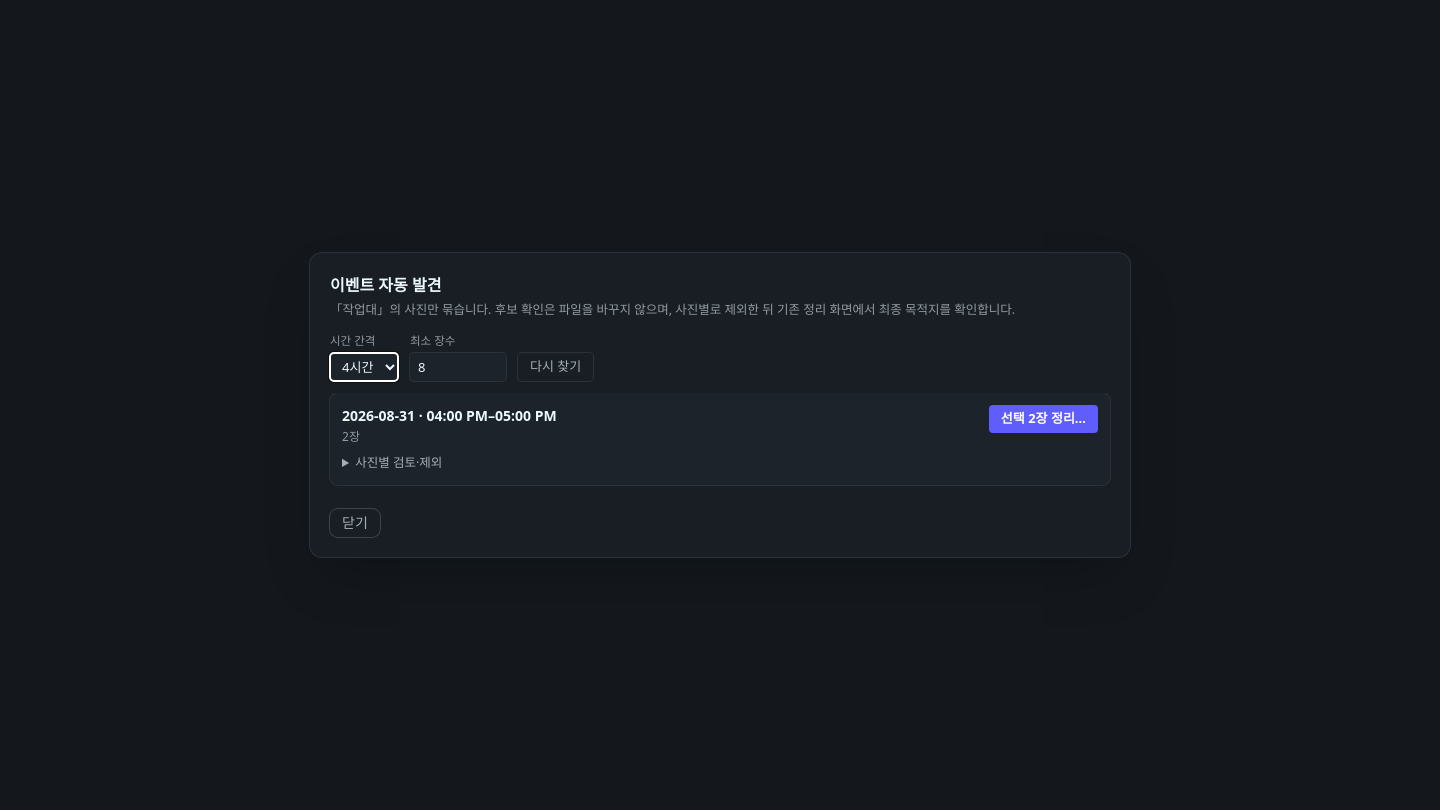
이벤트 자동 발견 › 같은 후보를 다시 찾으면 펼쳐 둔 목록이 열린 채 비지 않는다
Click the heading "사진별 검토·제외": x=399, y=463 [355, 454, 442, 471]
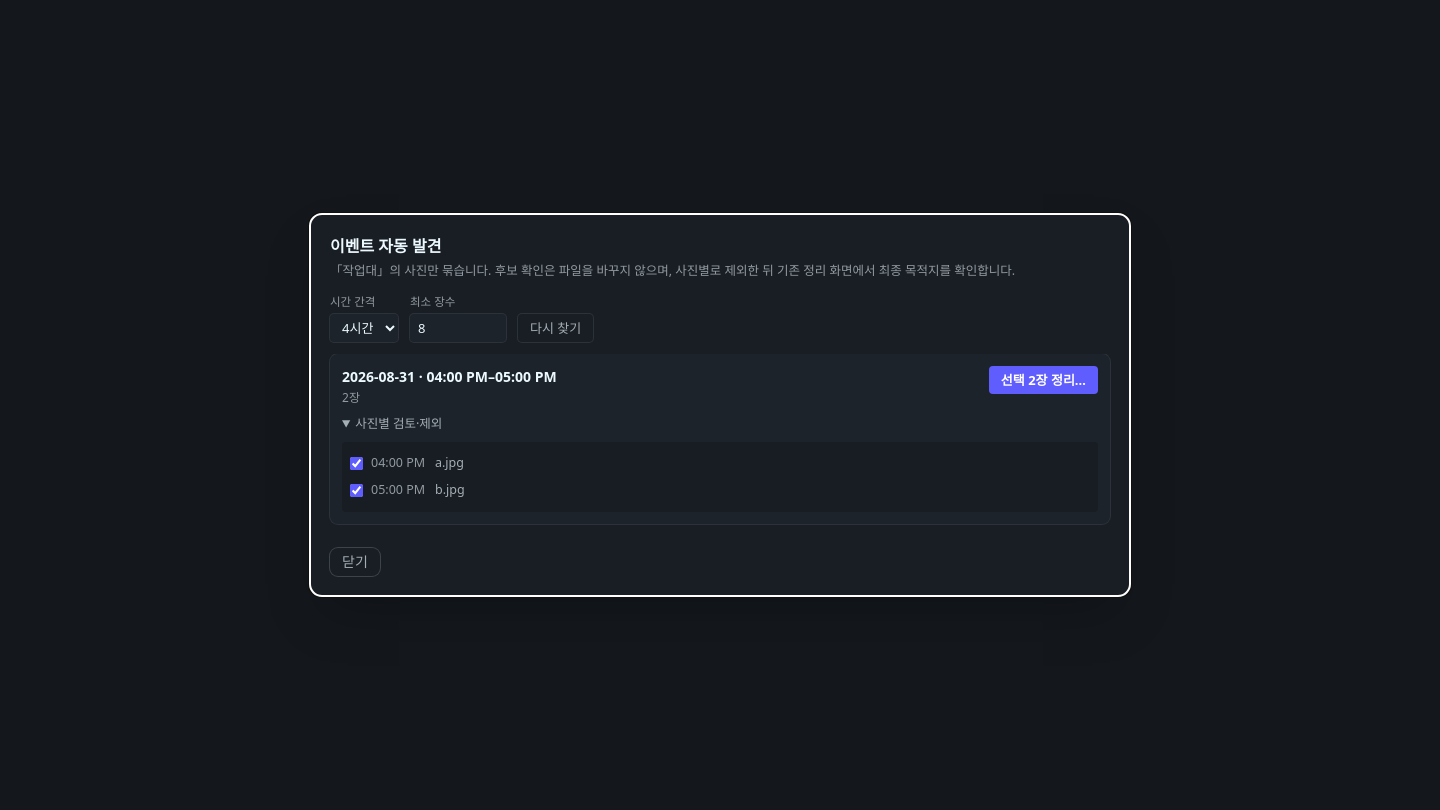
Expected: the number of checkboxes is 2, [350, 457, 363, 470]; [350, 484, 363, 497]
Click the button "다시 찾기": x=556, y=328 [518, 314, 593, 342]
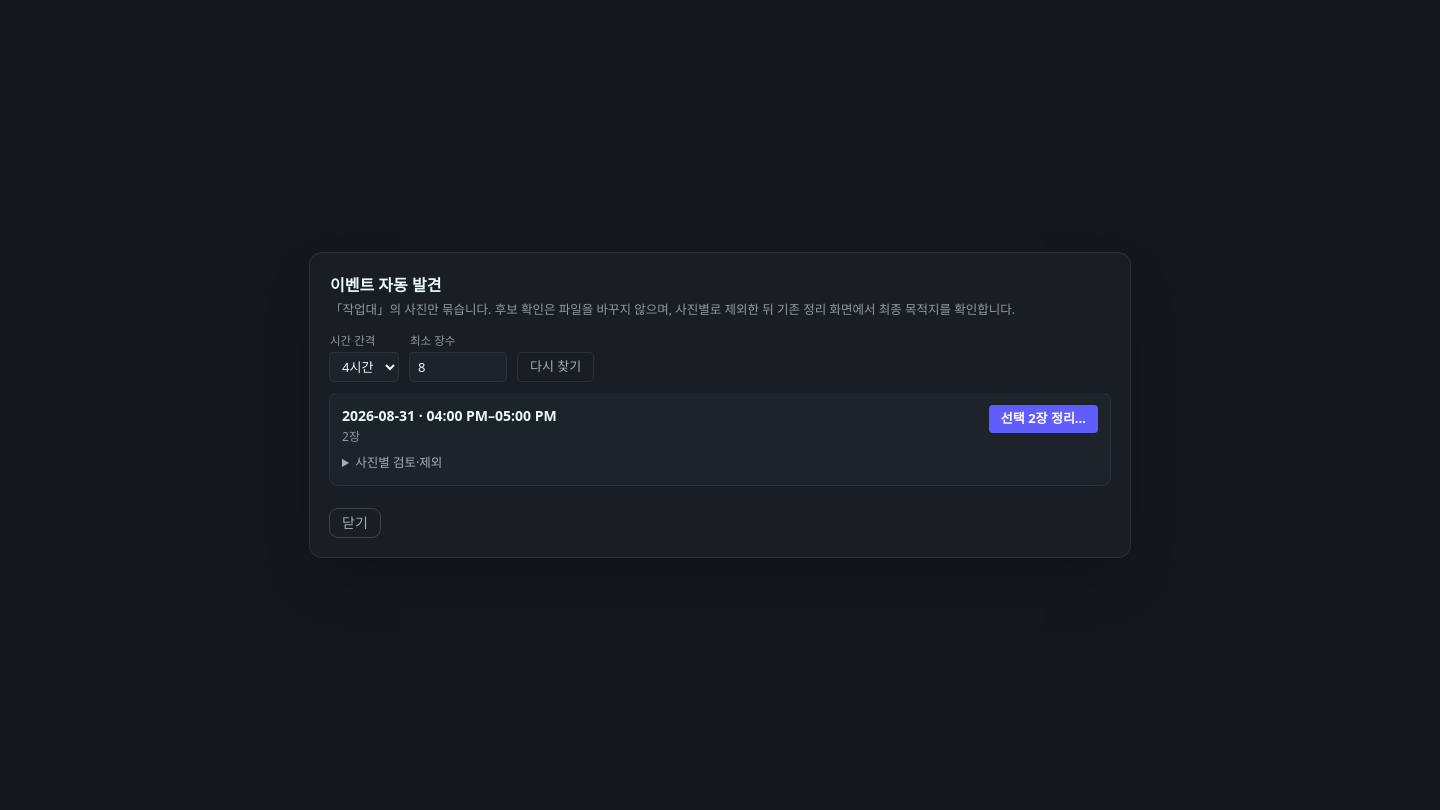
Expected: no checkboxes are shown
Click the heading "사진별 검토·제외": x=399, y=463 [355, 454, 442, 471]
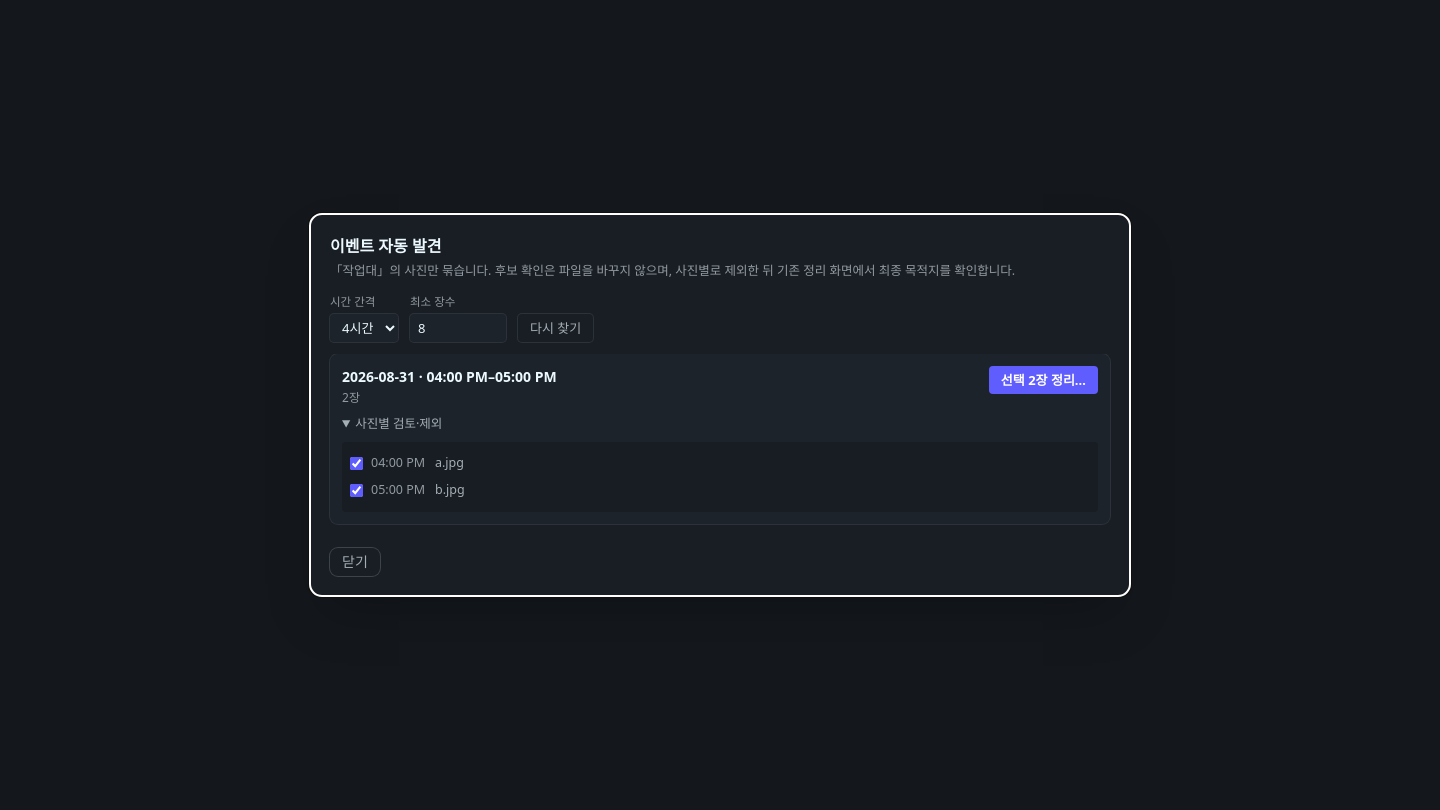
Expected: the number of checkboxes is 2, [350, 457, 363, 470]; [350, 484, 363, 497]
